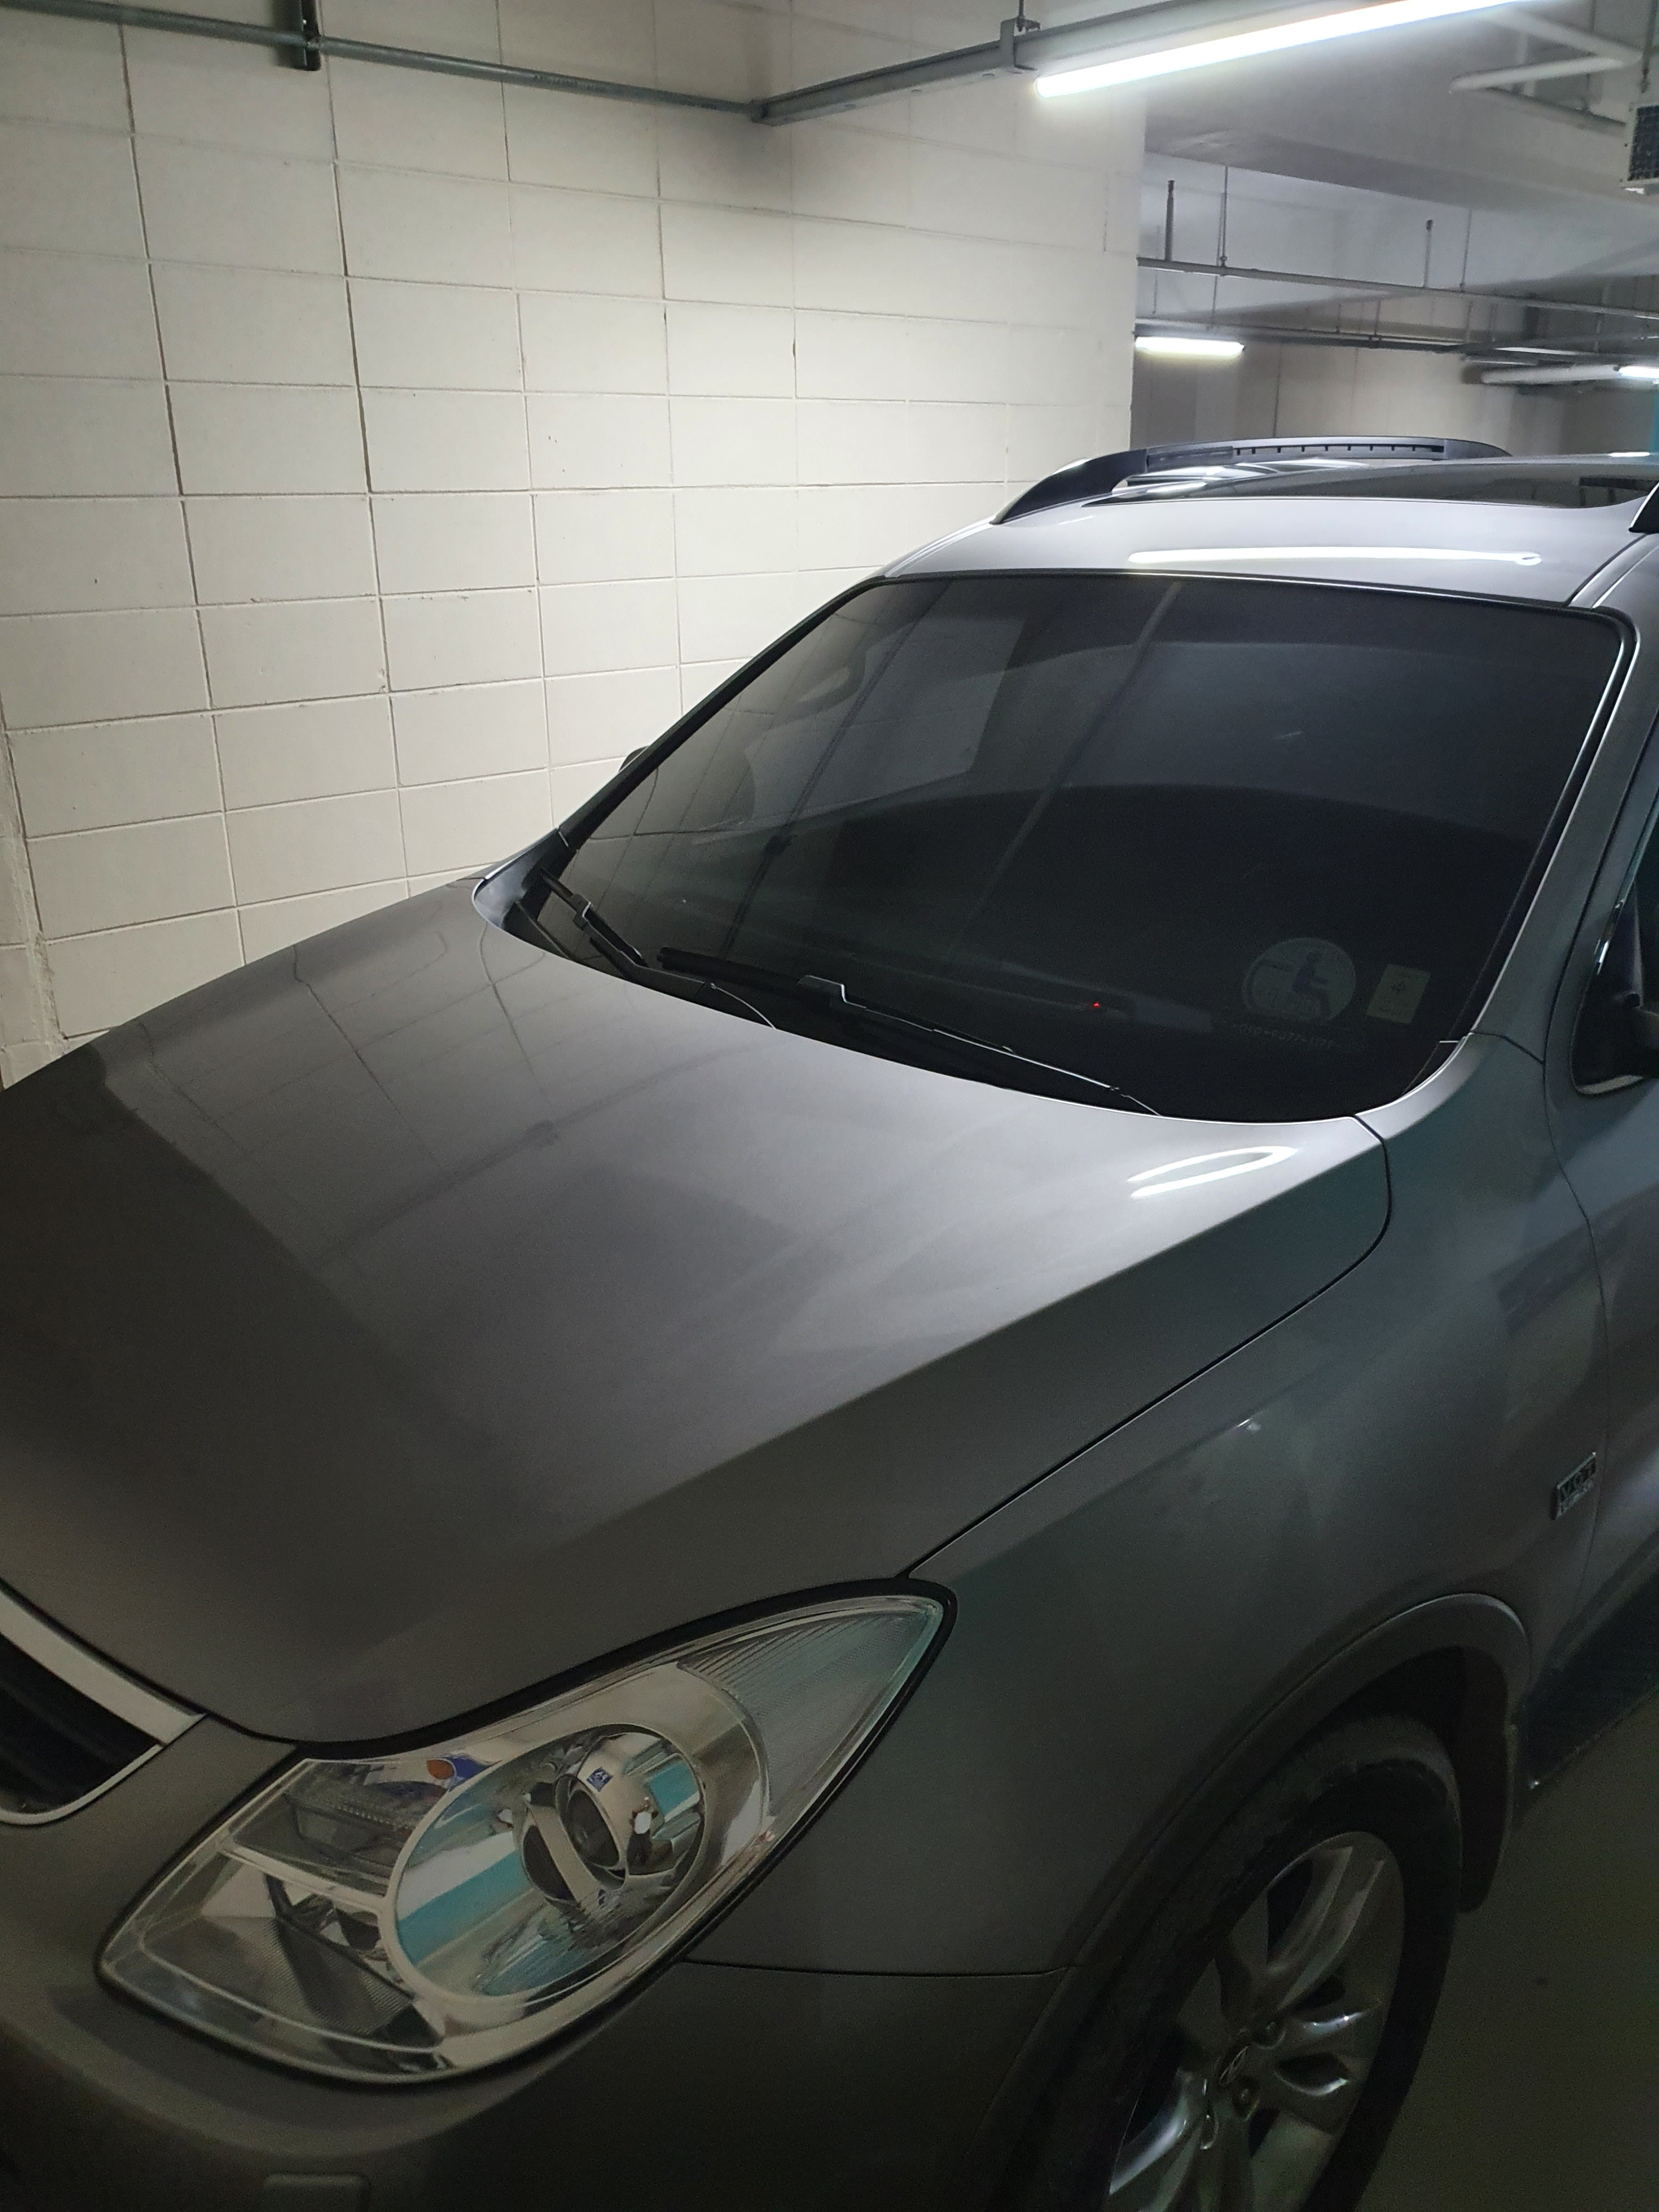disabled_parking: (1236, 927, 1363, 1029)
